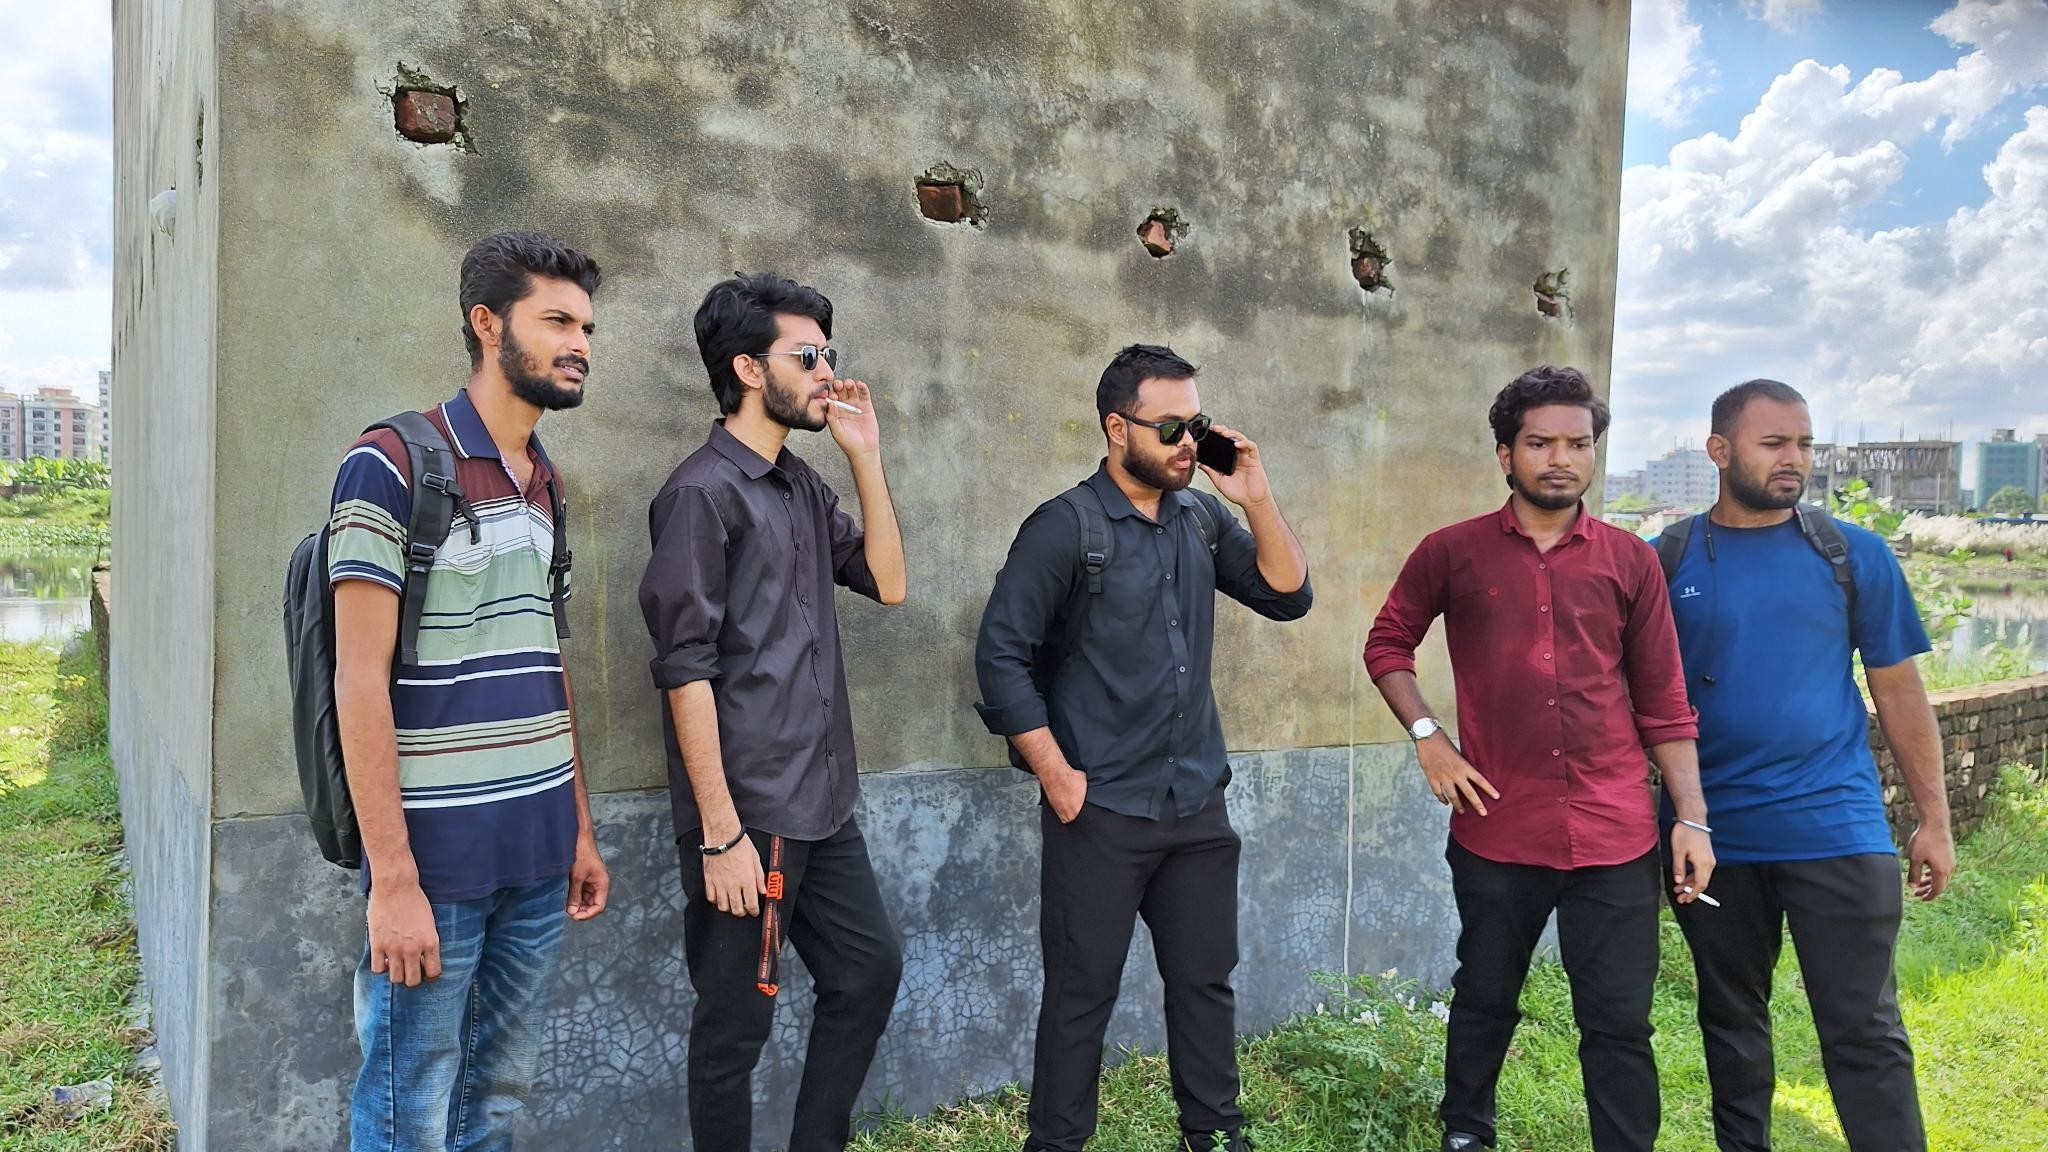cigarette: (1681, 883, 1723, 913), (821, 394, 866, 418)
nonSmoker: (286, 231, 610, 1152), (976, 345, 1317, 1152), (1658, 377, 1959, 1152)
smoker: (1364, 364, 1717, 1152), (641, 273, 911, 1152)
